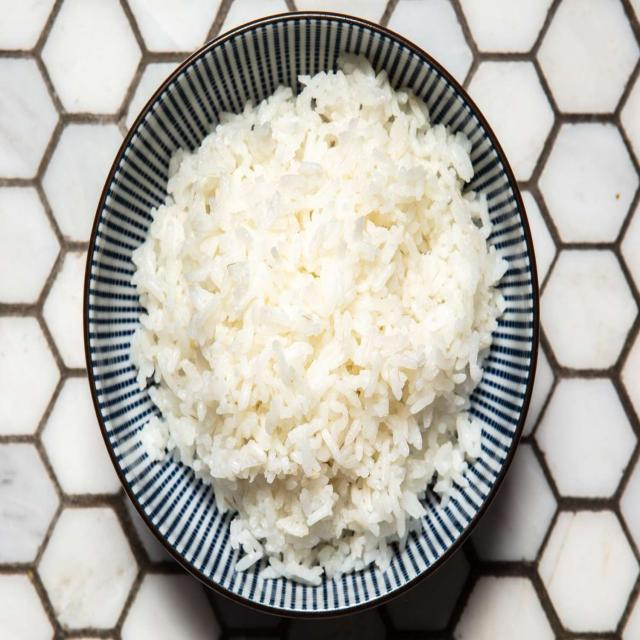Rice: (87, 50, 537, 623)
